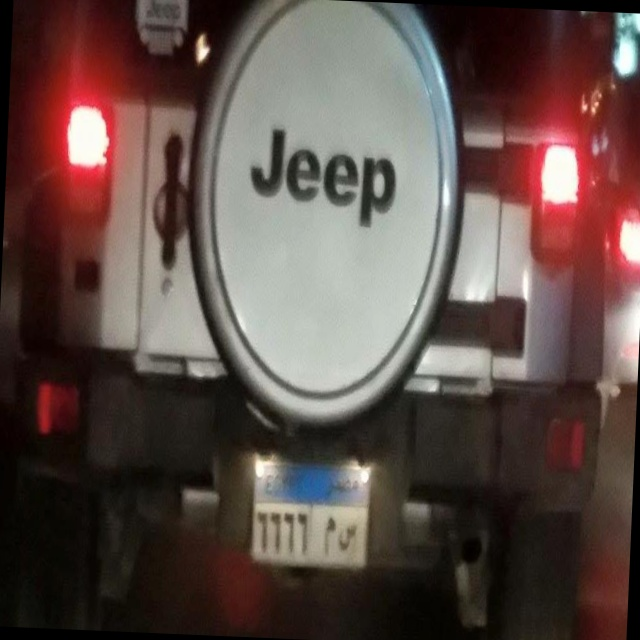License Plate: (247, 456, 375, 575)
